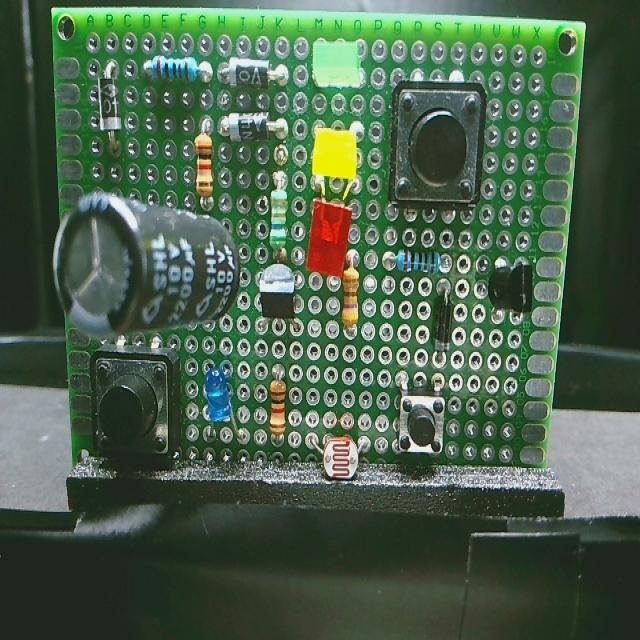Electrolytic capacitor: (48, 187, 250, 341)
cds: (307, 428, 378, 484)
diode: (84, 54, 129, 160), (218, 106, 296, 148), (220, 54, 292, 94), (431, 282, 457, 372)
led: (306, 183, 357, 279), (201, 365, 249, 447), (308, 35, 371, 97), (309, 124, 364, 193)
resistor: (187, 110, 220, 212), (139, 52, 218, 92), (381, 247, 457, 284), (266, 167, 292, 260), (268, 360, 294, 451), (342, 250, 363, 345)
switch: (384, 69, 489, 227), (84, 339, 187, 479), (390, 370, 453, 468)
transistor: (480, 257, 537, 330), (254, 255, 305, 329)
